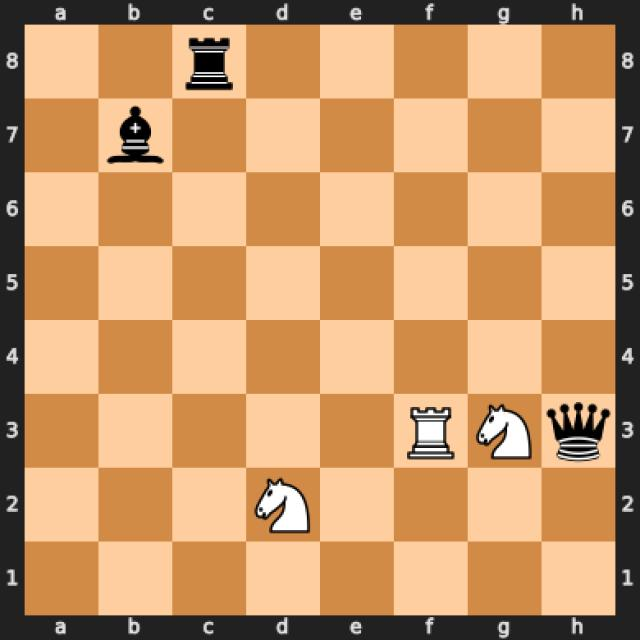Bishop_Black: (104, 104, 168, 167)
King_black: (546, 403, 610, 463)
Knight_white: (475, 402, 534, 463), (254, 475, 311, 535)
Rook_black: (184, 35, 234, 92)
Rook_white: (407, 405, 458, 463)
